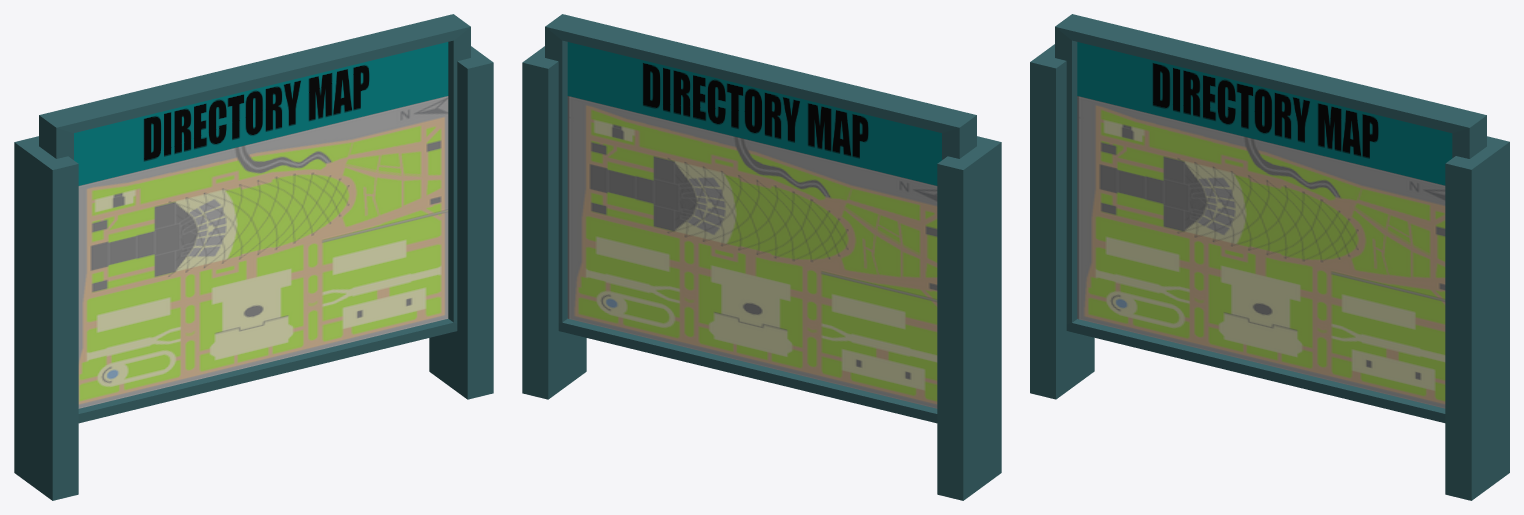
Rendered from directorysign.fbx.
3 views of the same model, side by side, from view 1: azimuth 30°, elevation 25°; view 2: azimuth 150°, elevation 25°; view 3: azimuth 330°, elevation 25° (orthographic).
Parts seen in each view (by area): view 1: pCube196, pCube195, pCube194; view 2: pCube196, pCube195, pCube194; view 3: pCube196, pCube194, pCube195.
Boxes of the visible parts, bbox=[...] form: pCube196: bbox=[39, 14, 470, 423]; pCube195: bbox=[14, 136, 78, 500]; pCube194: bbox=[429, 46, 493, 399]; pCube196: bbox=[545, 14, 976, 423]; pCube195: bbox=[937, 136, 1001, 500]; pCube194: bbox=[522, 46, 586, 399]; pCube196: bbox=[1055, 14, 1486, 422]; pCube194: bbox=[1445, 136, 1509, 500]; pCube195: bbox=[1030, 44, 1094, 399].
Size of the model in its own units: 4.02 by 3.16 by 0.606.
Materials: 3 (2 with a texture image).
